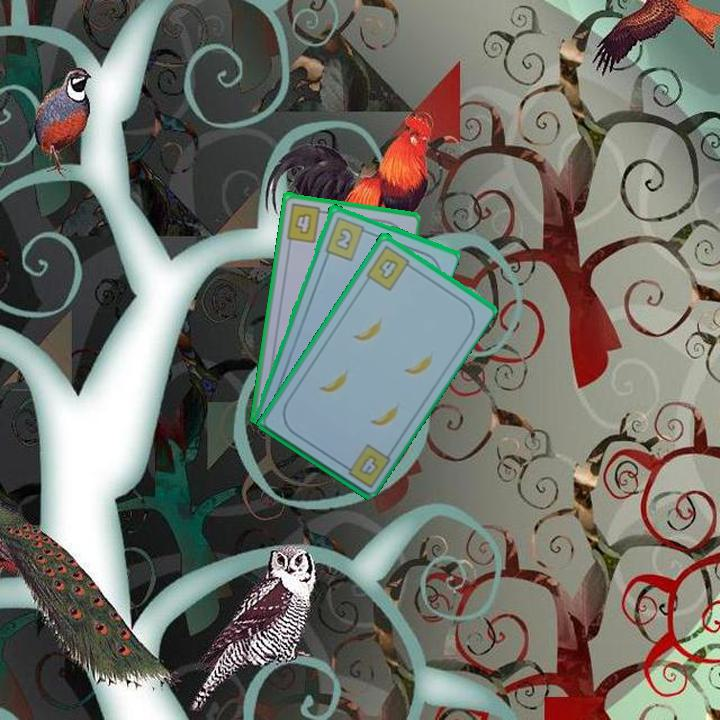2b: (321, 213, 372, 263)
4b: (337, 440, 393, 491), (363, 241, 417, 293), (283, 199, 330, 245)
